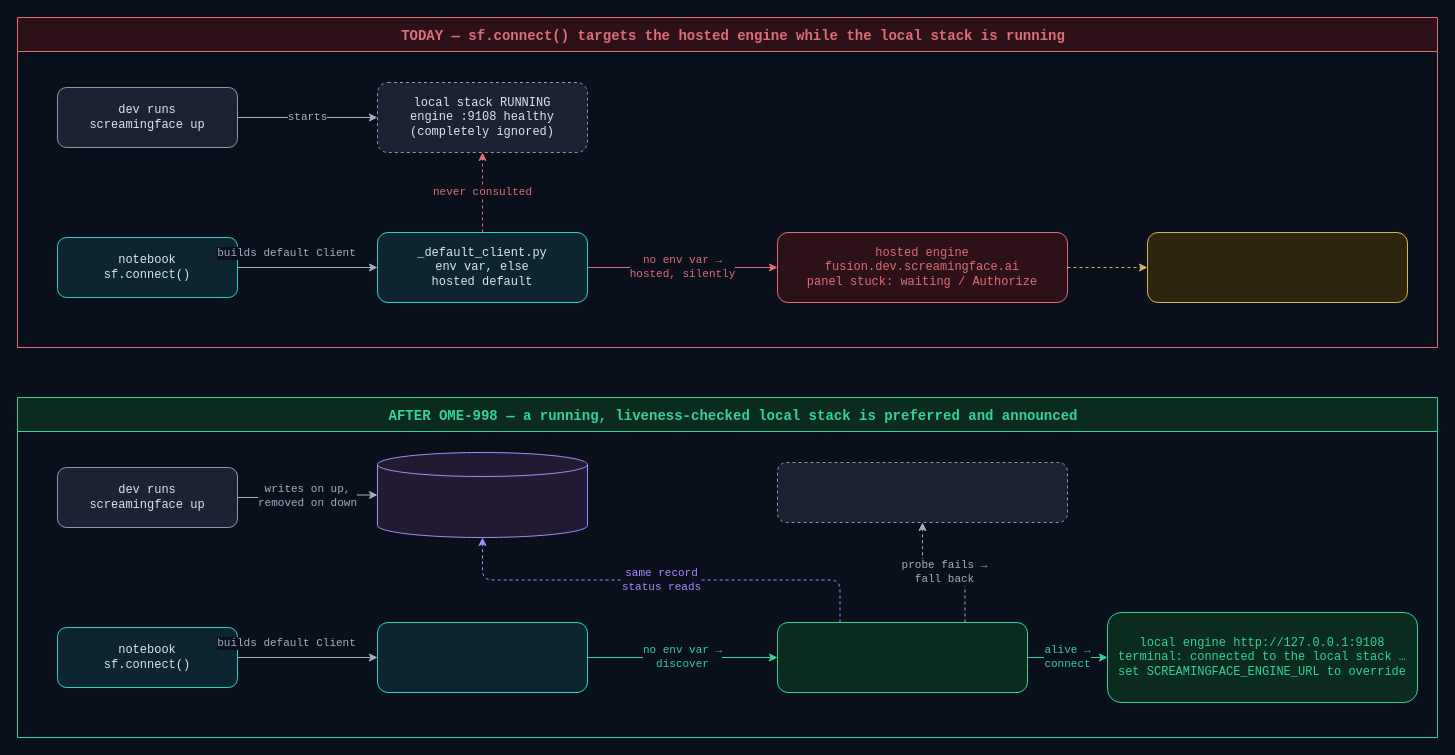
This 1455x755 diagram has some shape labels left out. Here are the shapes that lost their labels. From the top down, the centre of each, then its label:
At point (1277, 267): "only escape: a human exports SCREAMINGFACE_ENGINE_URL BY HAND before Jupyter".
At point (482, 495): "~/.screamingface/ runtime.json".
At point (922, 492): "hosted default — unchanged, silent (no state / stale state / dead port)".
At point (482, 657): "_default_client.py 1 env var → 2 local → 3 hosted".
At point (902, 657): "_runtime/detect.py reads runtime.json, probes engine /healthz (0.3s)".
